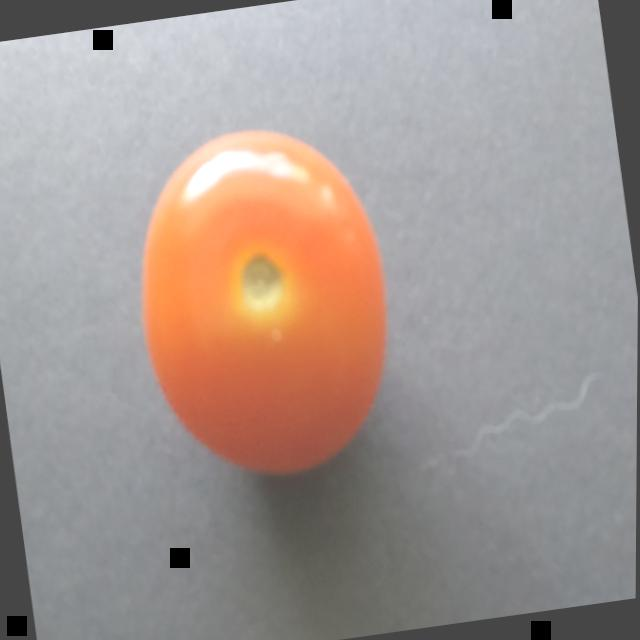Tomato: (89, 63, 434, 540)
